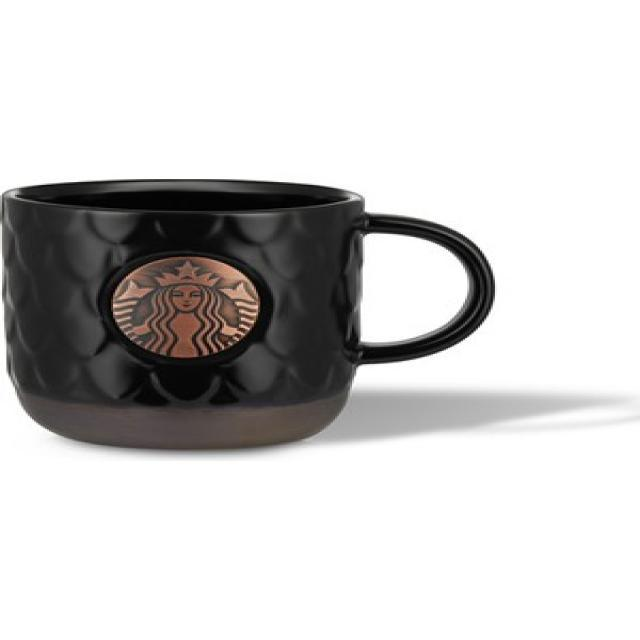Coffee Mug: (2, 176, 497, 451)
